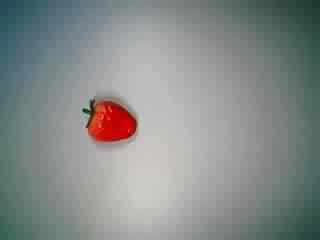strawberry: (79, 87, 145, 153)
